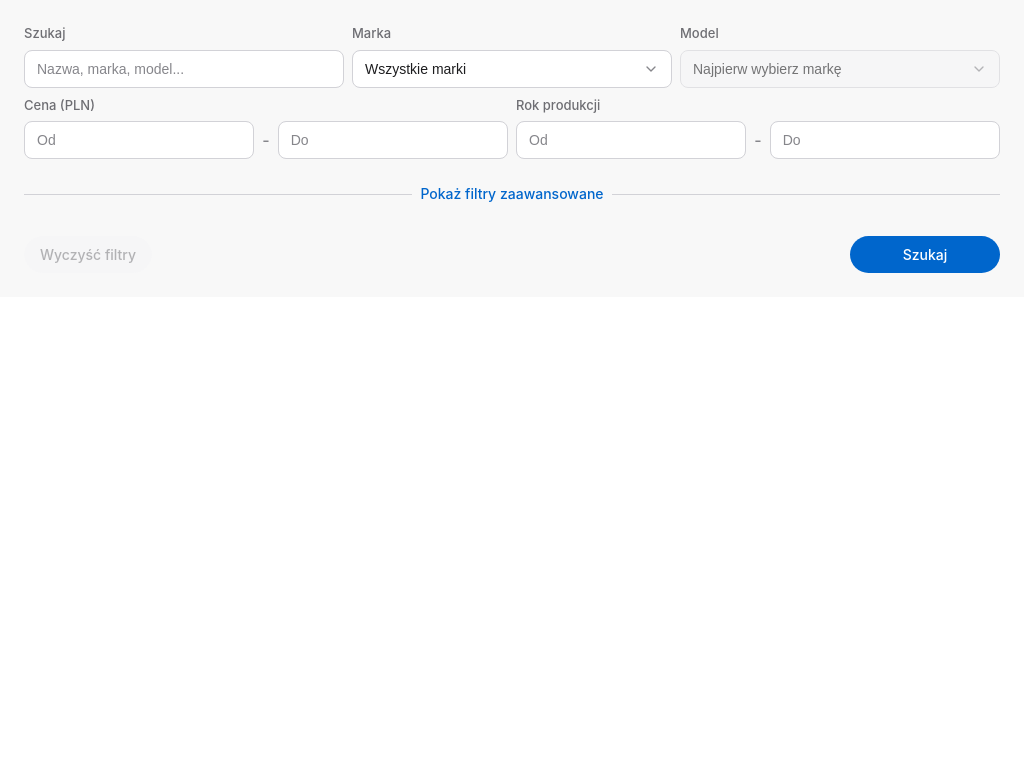
Test case: AdvancedFilter › shows/hides advanced filters when toggle button is clicked
Expected: the text "Szczegóły pojazdu" is not shown
Click the button "Pokaż filtry zaawansowane". click: (512, 194)
box: [24,175,1000,212]
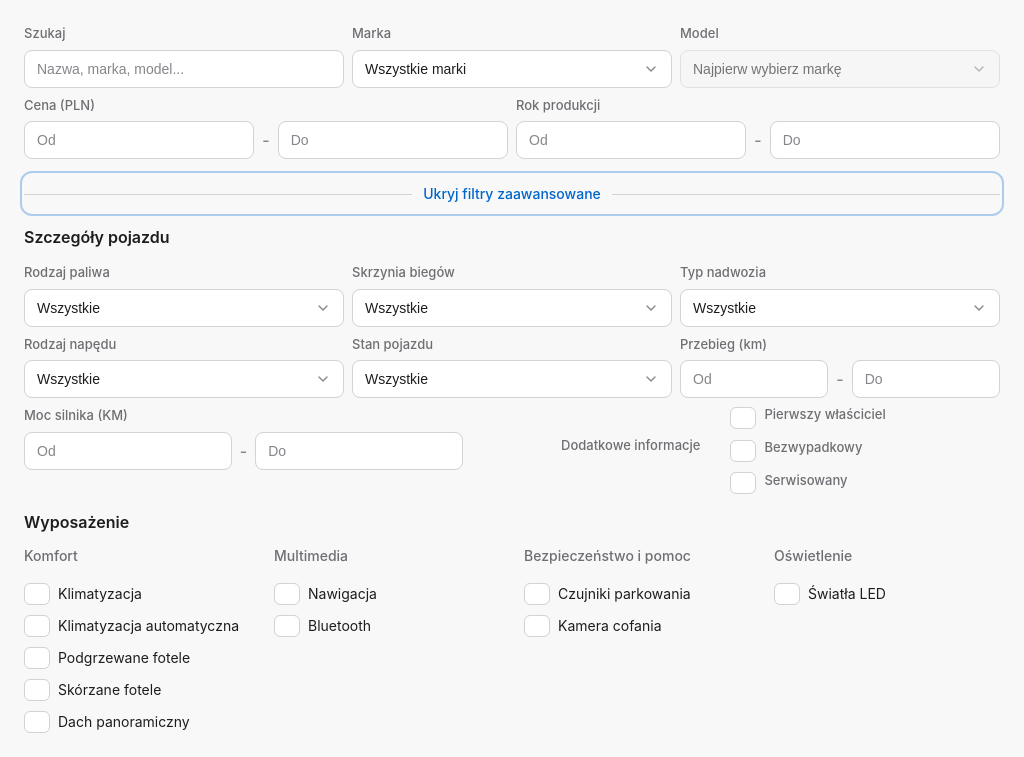
Now the heading "Szczegóły pojazdu" is shown, box [24,227,170,247]
Now the heading "Wyposażenie" is shown, box [24,512,129,532]
Now the button "Ukryj filtry zaawansowane" is shown, box [24,175,1000,212]
